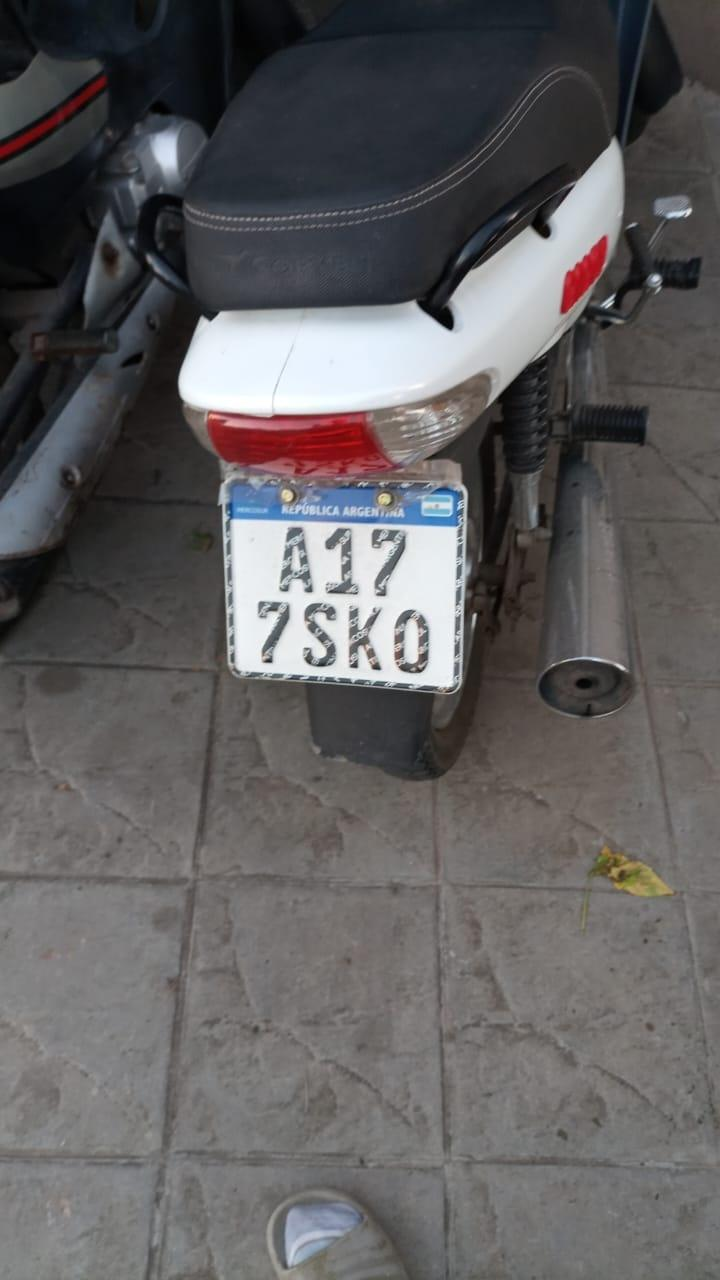matricula: (220, 472, 468, 696)
